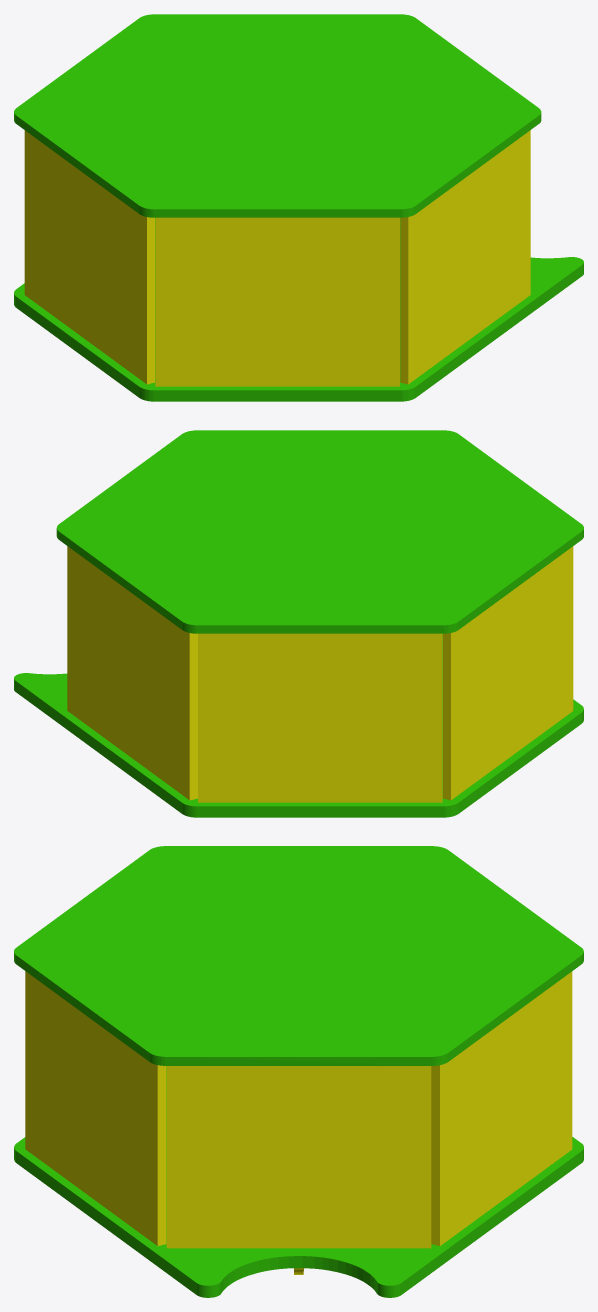
Rendered from base_green.dae.
3 renders of one model, top to bottom at view 1: azimuth 30°, elevation 25°; view 2: azimuth 150°, elevation 25°; view 3: azimuth 270°, elevation 25°, orthographic. The views are drawn at different scales.
Parts seen in each view (by area): view 1: FBXASC195FBXASC129FBXASC195FBXASC174FBXASC195FBXASC161FBXAS_ (×4), FBXASC195FBXASC129FBXASC195FBXASC174FBXASC195FBXASC161FBXASC; view 2: FBXASC195FBXASC129FBXASC195FBXASC174FBXASC195FBXASC161FBXAS_ (×4), FBXASC195FBXASC129FBXASC195FBXASC174FBXASC195FBXASC161FBXASC; view 3: FBXASC195FBXASC129FBXASC195FBXASC174FBXASC195FBXASC161FBXAS_ (×4), FBXASC195FBXASC129FBXASC195FBXASC174FBXASC195FBXASC161FBXASC.
Boxes of the visible parts, <box> form: FBXASC195FBXASC129FBXASC195FBXASC174FBXASC195FBXASC161FBXAS_ (×4): <box>14,14,541,386</box>; FBXASC195FBXASC129FBXASC195FBXASC174FBXASC195FBXASC161FBXASC: <box>14,218,583,401</box>; FBXASC195FBXASC129FBXASC195FBXASC174FBXASC195FBXASC161FBXAS_ (×4): <box>56,430,583,802</box>; FBXASC195FBXASC129FBXASC195FBXASC174FBXASC195FBXASC161FBXASC: <box>14,634,583,817</box>; FBXASC195FBXASC129FBXASC195FBXASC174FBXASC195FBXASC161FBXAS_ (×4): <box>14,846,583,1248</box>; FBXASC195FBXASC129FBXASC195FBXASC174FBXASC195FBXASC161FBXASC: <box>14,1066,583,1297</box>.
Size of the model in its own units: 0.1724 by 0.1702 by 0.0794.
